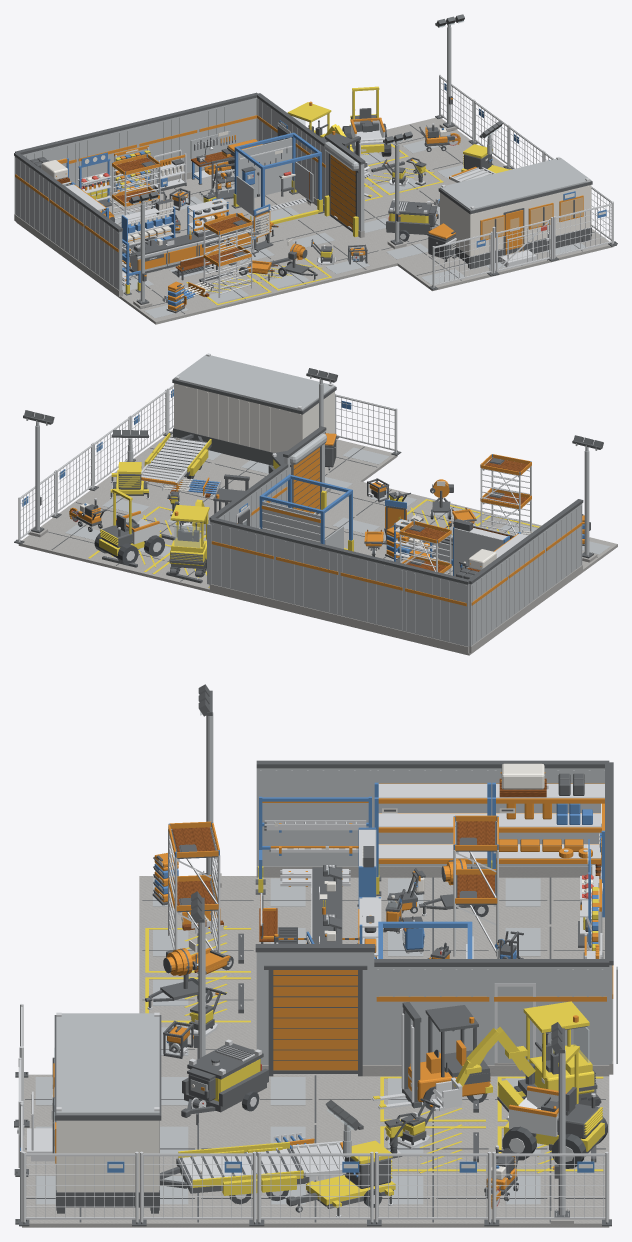
File: tool_and_plant_hire_depot.glb
The picture shows the model from 3 angles, top to bottom: view 1: azimuth 30°, elevation 25°; view 2: azimuth 150°, elevation 25°; view 3: azimuth 270°, elevation 25°; orthographic projection. The views are drawn at different scales.
Parts seen in each view (by area): view 1: 095-tool-hire-depot-and-plant-yard-site-office-cabin/2, 095-tool-hire-depot-and-plant-yard-site-office-cabin/1, 047-tool-hire-depot-and-plant-yard-depot-roller-shutter-door (×3), 070-tool-hire-depot-and-plant-yard-wash-bay-frame/3, 044-tool-hire-depot-and-plant-yard-depot-wall-module/1, 040-tool-hire-depot-and-plant-yard-depot-wall-module/1, 095-tool-hire-depot-and-plant-yard-site-office-cabin/0, 043-tool-hire-depot-and-plant-yard-depot-wall-module/1, 042-tool-hire-depot-and-plant-yard-depot-wall-module/1, 041-tool-hire-depot-and-plant-yard-depot-wall-module/1, 039-tool-hire-depot-and-plant-yard-depot-wall-module/1, 014-tool-hire-depot-and-plant-yard-yard-ground-tile/0 (+50 smaller); view 2: 095-tool-hire-depot-and-plant-yard-site-office-cabin/1, 095-tool-hire-depot-and-plant-yard-site-office-cabin/2, 038-tool-hire-depot-and-plant-yard-depot-wall-module/1, 039-tool-hire-depot-and-plant-yard-depot-wall-module/1, 041-tool-hire-depot-and-plant-yard-depot-wall-module/1, 040-tool-hire-depot-and-plant-yard-depot-wall-module/1, 047-tool-hire-depot-and-plant-yard-depot-roller-shutter-door (×3), 042-tool-hire-depot-and-plant-yard-depot-wall-module/1, 043-tool-hire-depot-and-plant-yard-depot-wall-module/1, 044-tool-hire-depot-and-plant-yard-depot-wall-module/1, 026-tool-hire-depot-and-plant-yard-yard-ground-tile/0, 095-tool-hire-depot-and-plant-yard-site-office-cabin/0 (+47 smaller); view 3: 047-tool-hire-depot-and-plant-yard-depot-roller-shutter-door (×4), 095-tool-hire-depot-and-plant-yard-site-office-cabin/2, 044-tool-hire-depot-and-plant-yard-depot-wall-module/1, 046-tool-hire-depot-and-plant-yard-depot-wall-module/1, 045-tool-hire-depot-and-plant-yard-staff-door-module/1, 095-tool-hire-depot-and-plant-yard-site-office-cabin/1, 018-tool-hire-depot-and-plant-yard-yard-ground-tile/0, 027-tool-hire-depot-and-plant-yard-yard-ground-tile/0, 049-tool-hire-depot-and-plant-yard-racking-bay-empty/4, 043-tool-hire-depot-and-plant-yard-depot-wall-module/1, 026-tool-hire-depot-and-plant-yard-yard-ground-tile/0, 085-tool-hire-depot-and-plant-yard-mini-excavator/3 (+78 smaller).
Boxes of the visible parts, x1,y1,x2,y2 form: 095-tool-hire-depot-and-plant-yard-site-office-cabin/2: (440, 158, 591, 210); 095-tool-hire-depot-and-plant-yard-site-office-cabin/1: (440, 185, 591, 256); 047-tool-hire-depot-and-plant-yard-depot-roller-shutter-door (×3): (324, 135, 365, 231); 070-tool-hire-depot-and-plant-yard-wash-bay-frame/3: (236, 137, 313, 215); 044-tool-hire-depot-and-plant-yard-depot-wall-module/1: (84, 207, 122, 290); 040-tool-hire-depot-and-plant-yard-depot-wall-module/1: (138, 112, 198, 181); 095-tool-hire-depot-and-plant-yard-site-office-cabin/0: (438, 181, 592, 269); 043-tool-hire-depot-and-plant-yard-depot-wall-module/1: (49, 182, 84, 264); 042-tool-hire-depot-and-plant-yard-depot-wall-module/1: (14, 156, 49, 239); 041-tool-hire-depot-and-plant-yard-depot-wall-module/1: (198, 97, 257, 169); 039-tool-hire-depot-and-plant-yard-depot-wall-module/1: (77, 126, 137, 195); 014-tool-hire-depot-and-plant-yard-yard-ground-tile/0: (271, 213, 360, 250); 095-tool-hire-depot-and-plant-yard-site-office-cabin/1: (174, 383, 334, 452); 095-tool-hire-depot-and-plant-yard-site-office-cabin/2: (173, 354, 335, 410); 038-tool-hire-depot-and-plant-yard-depot-wall-module/1: (404, 569, 469, 646); 039-tool-hire-depot-and-plant-yard-depot-wall-module/1: (339, 553, 403, 630); 041-tool-hire-depot-and-plant-yard-depot-wall-module/1: (210, 522, 275, 599); 040-tool-hire-depot-and-plant-yard-depot-wall-module/1: (275, 538, 339, 615); 047-tool-hire-depot-and-plant-yard-depot-roller-shutter-door (×3): (283, 426, 326, 513); 042-tool-hire-depot-and-plant-yard-depot-wall-module/1: (469, 558, 507, 646); 043-tool-hire-depot-and-plant-yard-depot-wall-module/1: (508, 531, 545, 618); 044-tool-hire-depot-and-plant-yard-depot-wall-module/1: (545, 503, 582, 591); 026-tool-hire-depot-and-plant-yard-yard-ground-tile/0: (18, 516, 105, 561); 095-tool-hire-depot-and-plant-yard-site-office-cabin/0: (172, 379, 336, 465); 047-tool-hire-depot-and-plant-yard-depot-roller-shutter-door (×4): (255, 944, 375, 1076); 095-tool-hire-depot-and-plant-yard-site-office-cabin/2: (56, 1013, 159, 1114); 044-tool-hire-depot-and-plant-yard-depot-wall-module/1: (256, 768, 374, 866); 046-tool-hire-depot-and-plant-yard-depot-wall-module/1: (374, 967, 491, 1064); 045-tool-hire-depot-and-plant-yard-staff-door-module/1: (491, 966, 617, 1064); 095-tool-hire-depot-and-plant-yard-site-office-cabin/1: (56, 1120, 159, 1192); 018-tool-hire-depot-and-plant-yard-yard-ground-tile/0: (256, 1074, 374, 1124); 027-tool-hire-depot-and-plant-yard-yard-ground-tile/0: (374, 1174, 491, 1227); 049-tool-hire-depot-and-plant-yard-racking-bay-empty/4: (378, 784, 487, 858); 043-tool-hire-depot-and-plant-yard-depot-wall-module/1: (374, 768, 491, 866); 026-tool-hire-depot-and-plant-yard-yard-ground-tile/0: (491, 1174, 609, 1227); 085-tool-hire-depot-and-plant-yard-mini-excavator/3: (498, 1001, 594, 1108).
Size of the model in its own units: 21.7 by 5.41 by 15.42.
12 materials, 2 textured.
